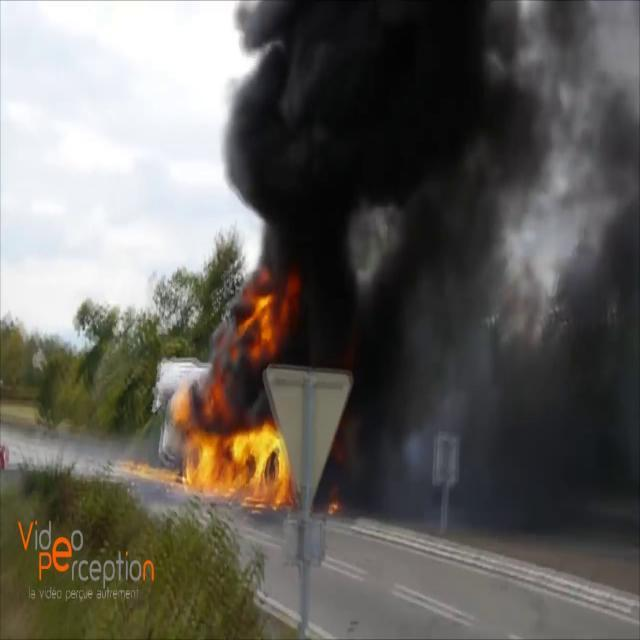Fire: (168, 388, 294, 508), (222, 272, 296, 364)
Smoke: (215, 0, 640, 492)
